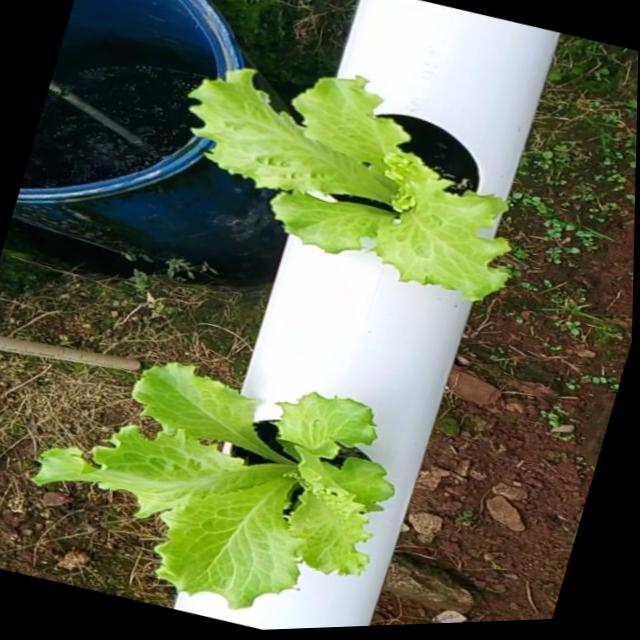Baby: (33, 362, 395, 610), (190, 65, 513, 297)
